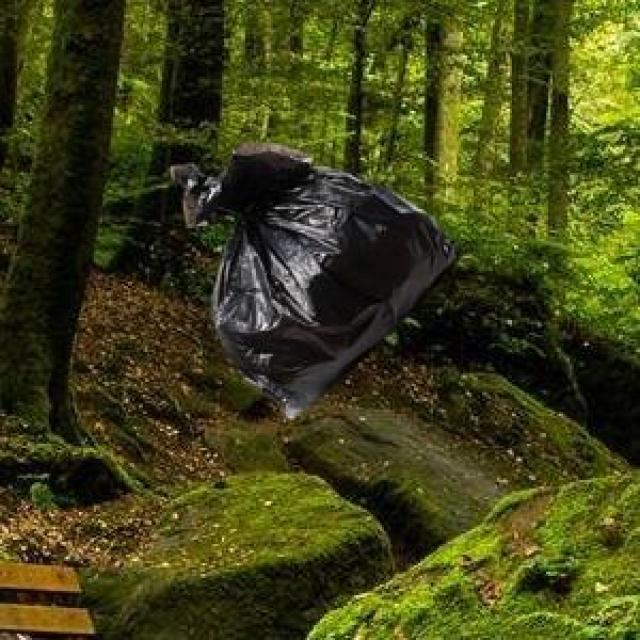Trashbag: (161, 134, 451, 433)
